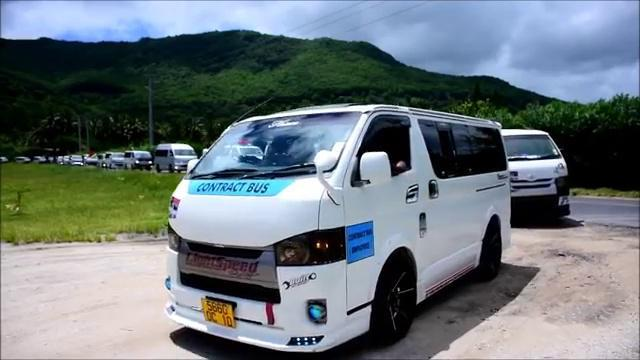van: (161, 99, 520, 358)
